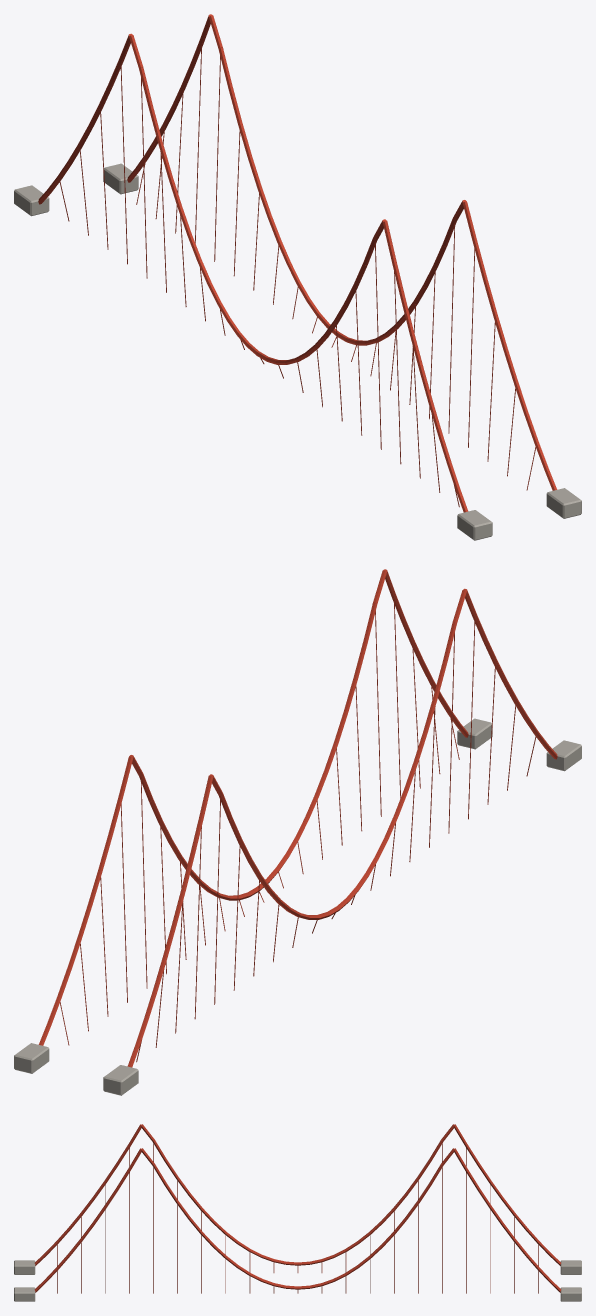
Rendered from Level1_Bridge_Cables.glb.
The picture shows the model from 3 angles, top to bottom: view 1: azimuth 30°, elevation 25°; view 2: azimuth 150°, elevation 25°; view 3: azimuth 270°, elevation 25°; orthographic projection. The views are drawn at different scales.
Visible parts, largest first — view 1: Level1_Bridge_Cables_Mesh; view 2: Level1_Bridge_Cables_Mesh; view 3: Level1_Bridge_Cables_Mesh.
Part boxes in pixels (x1,y1,x2,y2): Level1_Bridge_Cables_Mesh: (14, 14, 581, 540); Level1_Bridge_Cables_Mesh: (14, 569, 581, 1095); Level1_Bridge_Cables_Mesh: (14, 1124, 581, 1301).
Bounding box in the file's own units: 18 × 38.33 × 132.
1 material, 1 textured.
